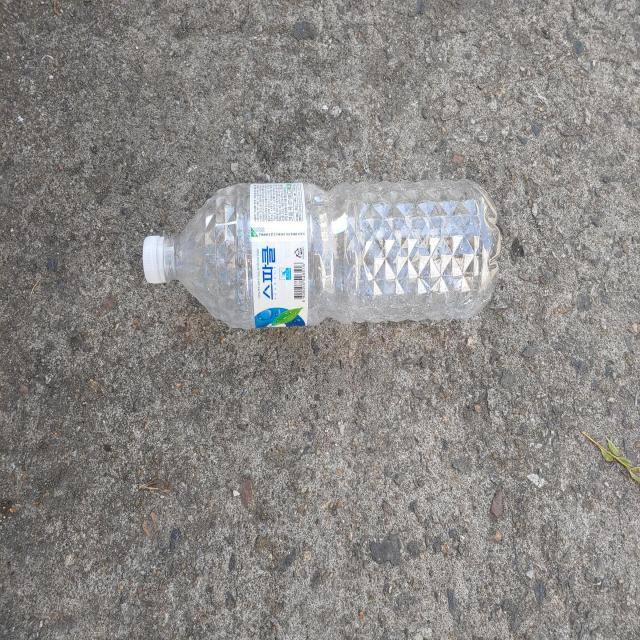plastic: (142, 180, 502, 329)
